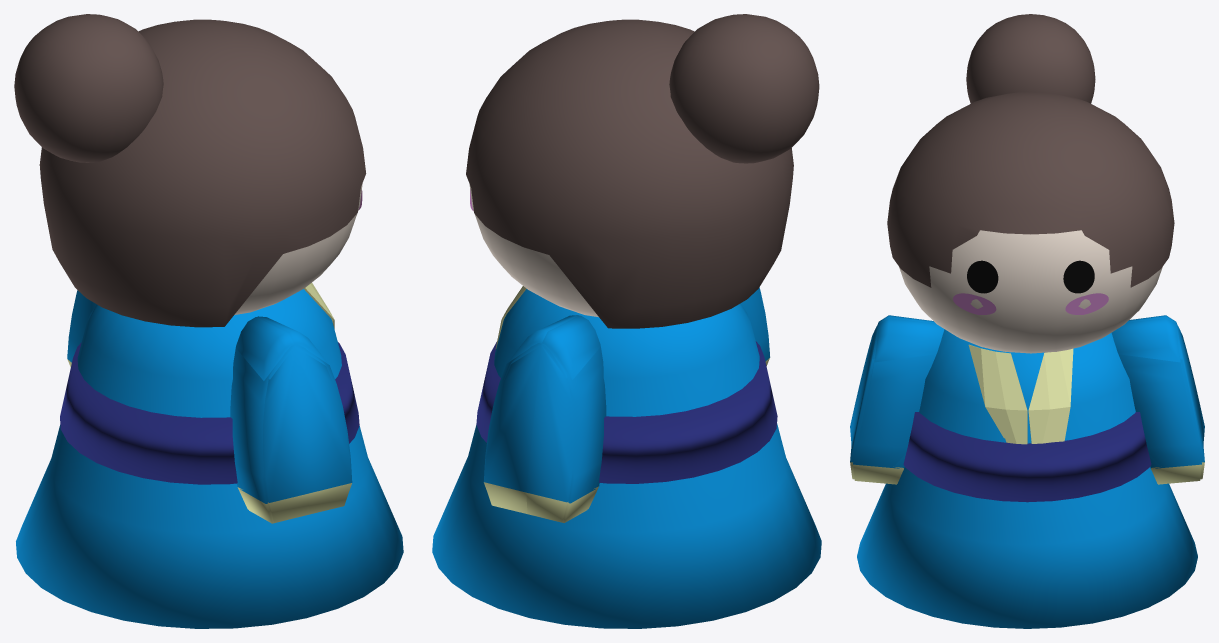
3 views of the same model, side by side, from view 1: azimuth 30°, elevation 25°; view 2: azimuth 150°, elevation 25°; view 3: azimuth 270°, elevation 25° (orthographic). The views are drawn at different scales.
Visible parts, largest first — view 1: hair, body, arm, odango hair, obi, face; view 2: hair, body, arm, odango hair, obi, face; view 3: body, hair, arm, face, obi, odango hair, eri, eye, hoho.
Part boxes in pixels (x1=…): hair: x1=39, y1=19, x2=366, y2=327; body: x1=16, y1=289, x2=403, y2=628; arm: x1=67, y1=290, x2=352, y2=523; odango hair: x1=14, y1=14, x2=163, y2=162; obi: x1=60, y1=342, x2=359, y2=484; face: x1=234, y1=183, x2=362, y2=315; hair: x1=466, y1=19, x2=793, y2=328; body: x1=432, y1=289, x2=821, y2=628; arm: x1=483, y1=287, x2=770, y2=522; odango hair: x1=669, y1=14, x2=819, y2=163; obi: x1=476, y1=341, x2=777, y2=483; face: x1=469, y1=185, x2=598, y2=317; body: x1=857, y1=329, x2=1197, y2=628; hair: x1=887, y1=92, x2=1174, y2=287; arm: x1=850, y1=315, x2=1204, y2=484; face: x1=899, y1=230, x2=1162, y2=353; obi: x1=903, y1=412, x2=1151, y2=502; odango hair: x1=966, y1=14, x2=1095, y2=103; eri: x1=968, y1=344, x2=1073, y2=444; eye: x1=967, y1=260, x2=1094, y2=293; hoho: x1=953, y1=293, x2=1108, y2=314.
Bounding box in the file's own units: 252 × 380 × 252.
